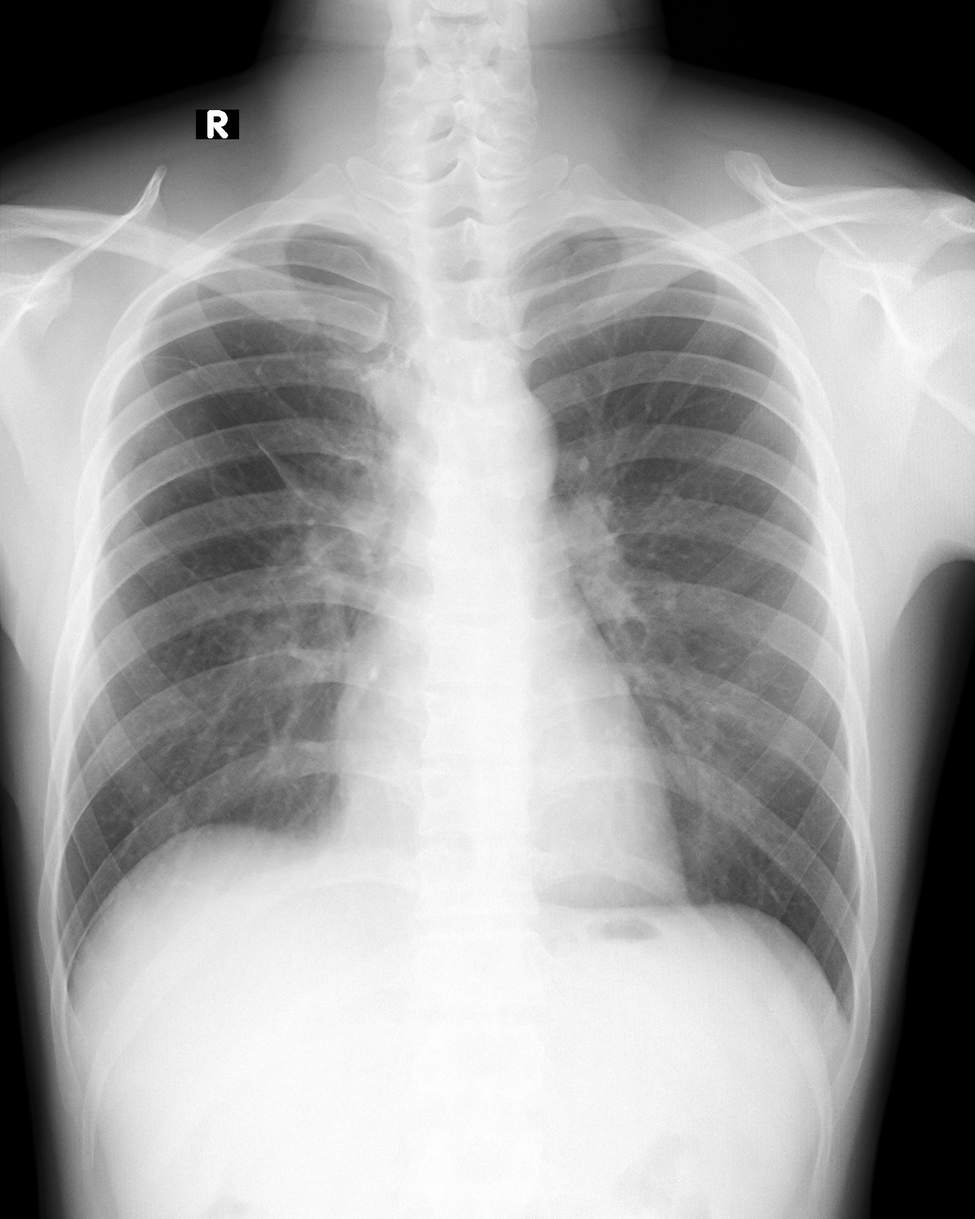Pulmonary fibrosis: (254, 437, 324, 507), (144, 354, 221, 388)
